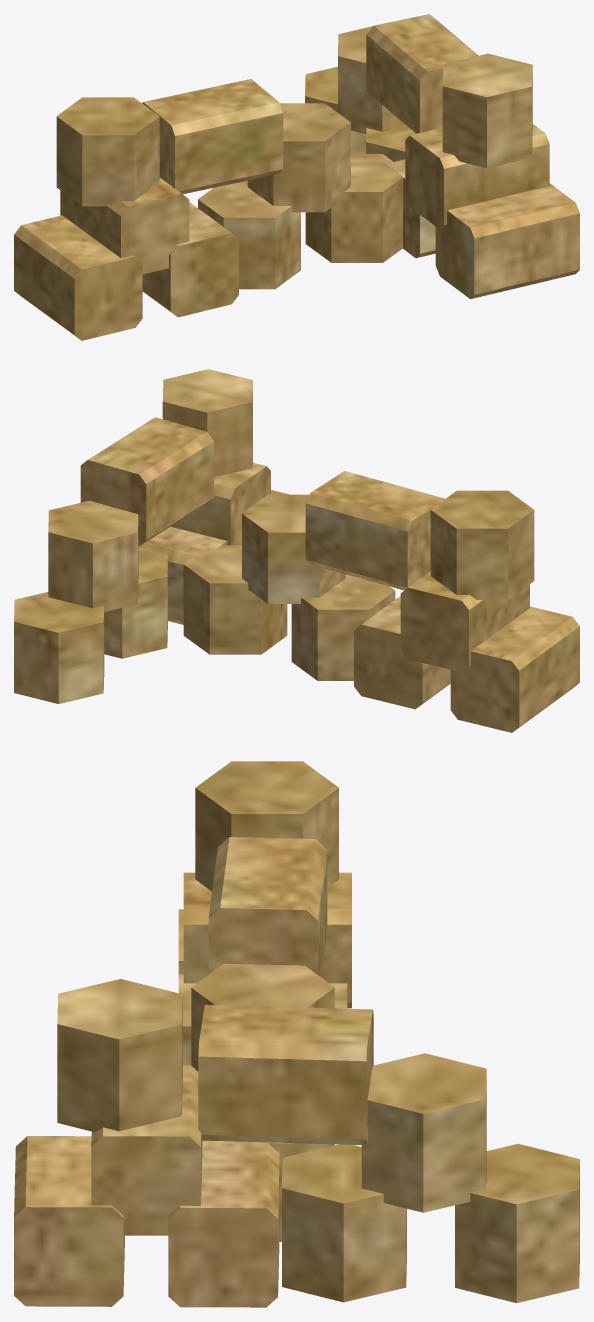
The model's file is haystack.fbx.
3 renders of one model, top to bottom at view 1: azimuth 30°, elevation 25°; view 2: azimuth 150°, elevation 25°; view 3: azimuth 270°, elevation 25°, orthographic. The views are drawn at different scales.
Visible parts, largest first — view 1: haystack; view 2: haystack; view 3: haystack.
Boxes of the visible parts, bbox=[...] form: haystack: bbox=[14, 14, 579, 340]; haystack: bbox=[14, 369, 579, 732]; haystack: bbox=[14, 761, 579, 1307].
Bounding box in the file's own units: 671 × 268 × 528.
